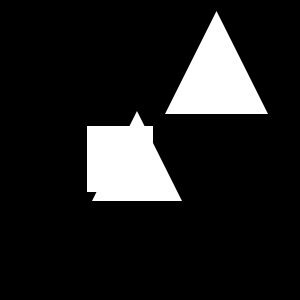circle: (87, 126, 153, 192)
triangle: (165, 11, 268, 114), (92, 111, 182, 201)
